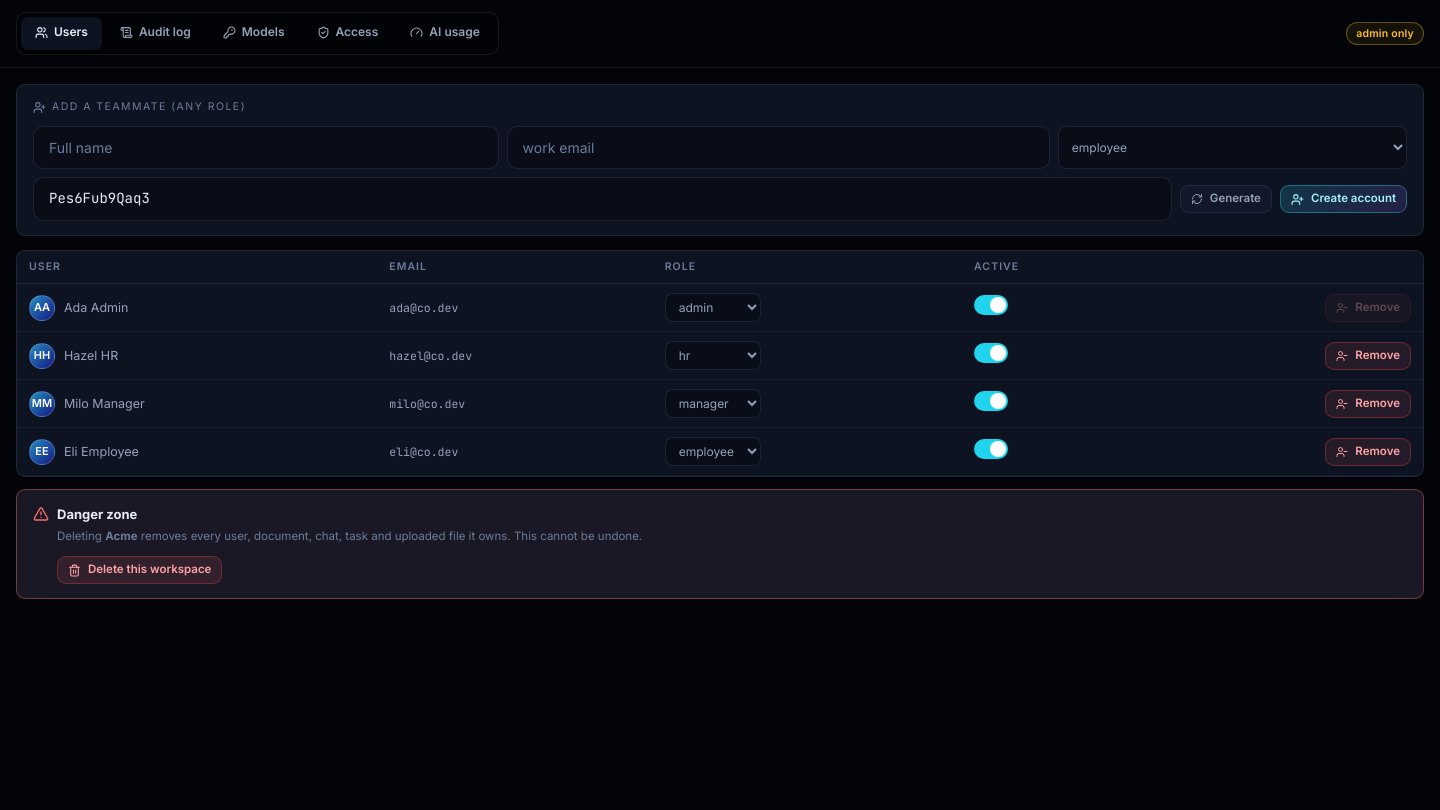
Scenario: the confirmation › keeps the person on the list if the server refuses
The image size is (1440, 810).
Click the button "Remove" in the row of "Eli Employee": (1368, 452) [1325,438,1411,466]
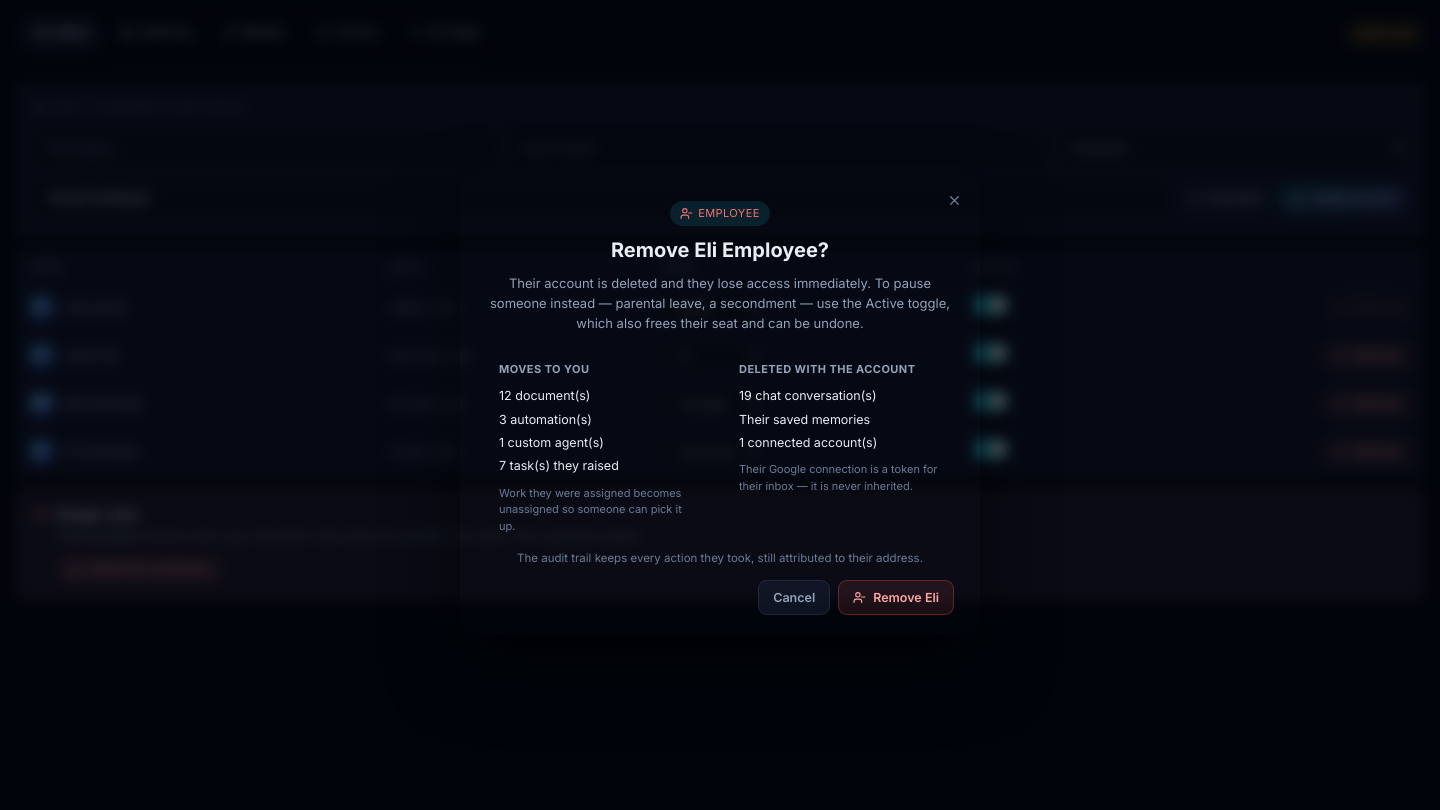
Click the button with test id "confirm-remove": (896, 598) [838,580,954,615]
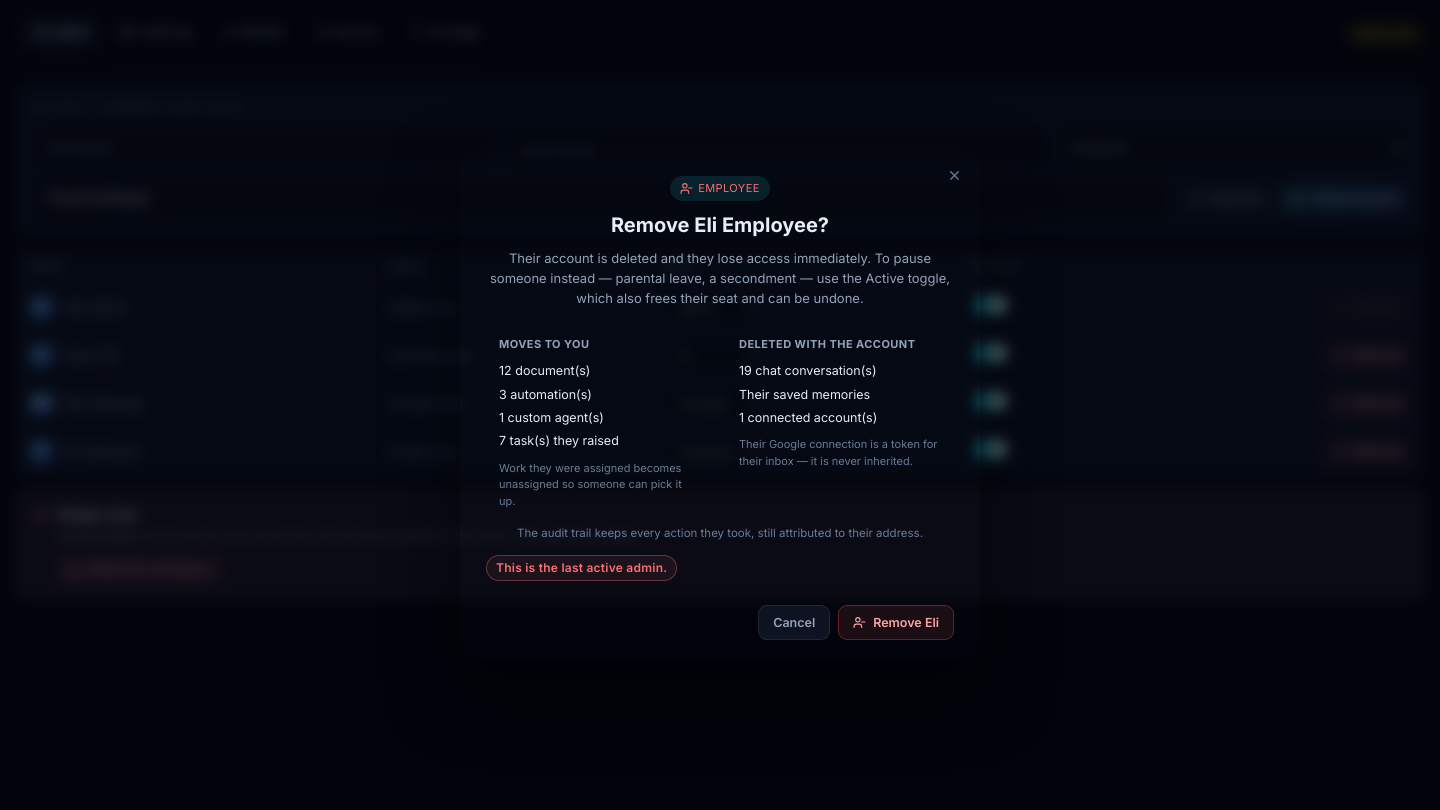
Result: the element with test id "remove-dialog" is shown at [460,150,980,660]
Result: the text "This is the last active admin." is shown at [486,555,677,581]
